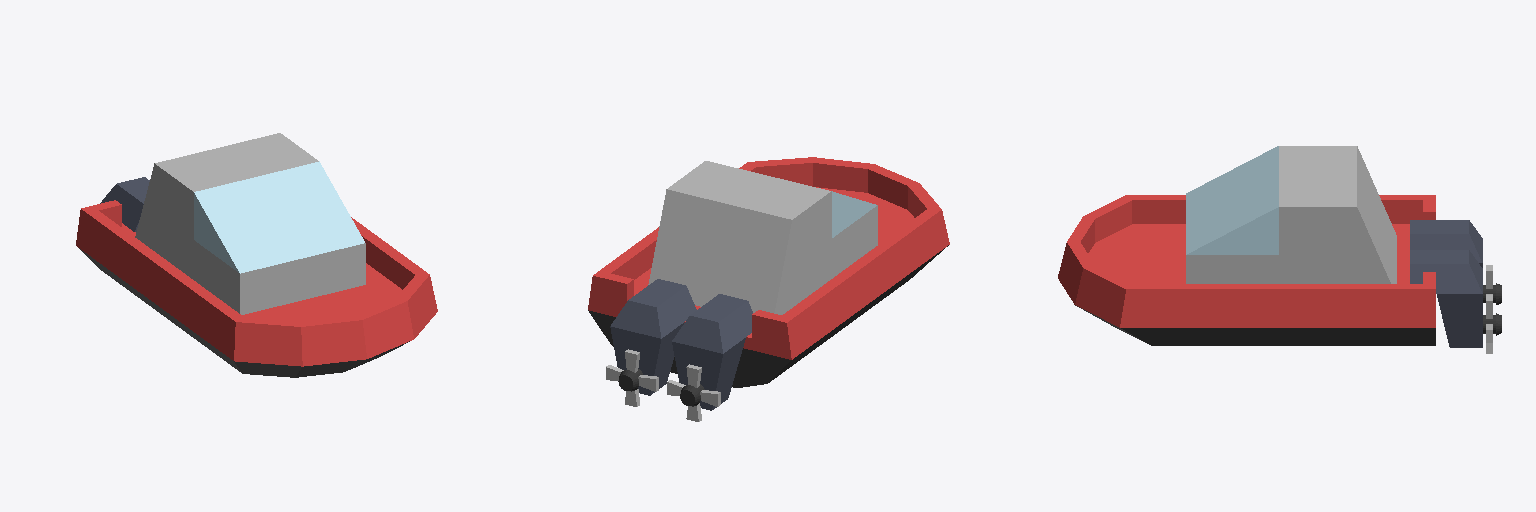
File: watercraftPack_011.obj
The picture shows the model from 3 angles: view 1: azimuth 30°, elevation 25°; view 2: azimuth 150°, elevation 25°; view 3: azimuth 270°, elevation 25°; orthographic projection.
Parts seen in each view (by area): view 1: Mesh5 Group1 Model, Mesh3 Group4 Group1 Model; view 2: Mesh5 Group1 Model, Mesh3 Group4 Group1 Model, Mesh1 Group2 Group1 Model, Mesh2 Group3 Group1 Model, Mesh4 Group5 Group1 Model; view 3: Mesh5 Group1 Model, Mesh1 Group2 Group1 Model, Mesh3 Group4 Group1 Model.
Part boxes in pixels (x1,y1,x2,y2): Mesh5 Group1 Model: (76,133,437,377); Mesh3 Group4 Group1 Model: (100,177,149,231); Mesh5 Group1 Model: (588,157,949,387); Mesh3 Group4 Group1 Model: (672,294,752,410); Mesh1 Group2 Group1 Model: (610,279,696,395); Mesh2 Group3 Group1 Model: (667,364,720,421); Mesh4 Group5 Group1 Model: (606,349,658,406); Mesh5 Group1 Model: (1058,146,1435,345); Mesh1 Group2 Group1 Model: (1410,250,1501,347); Mesh3 Group4 Group1 Model: (1410,220,1501,304).
Size of the model in its own units: 1.78 by 1.33 by 3.37.